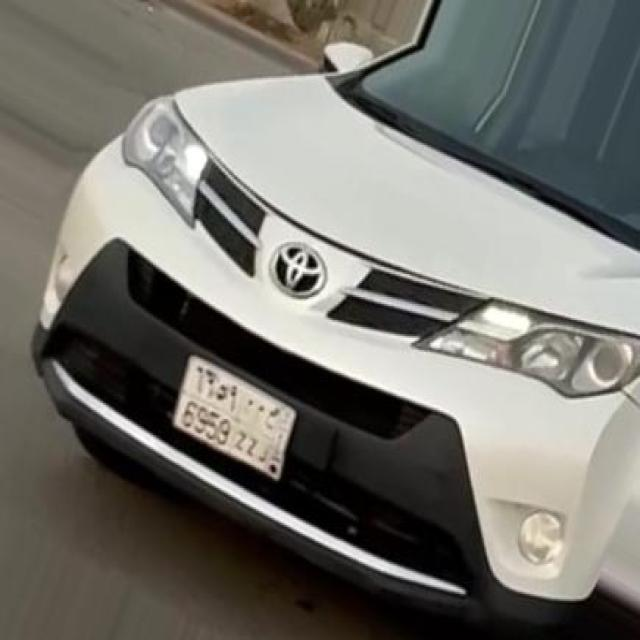Car-plate: (153, 330, 321, 503)
